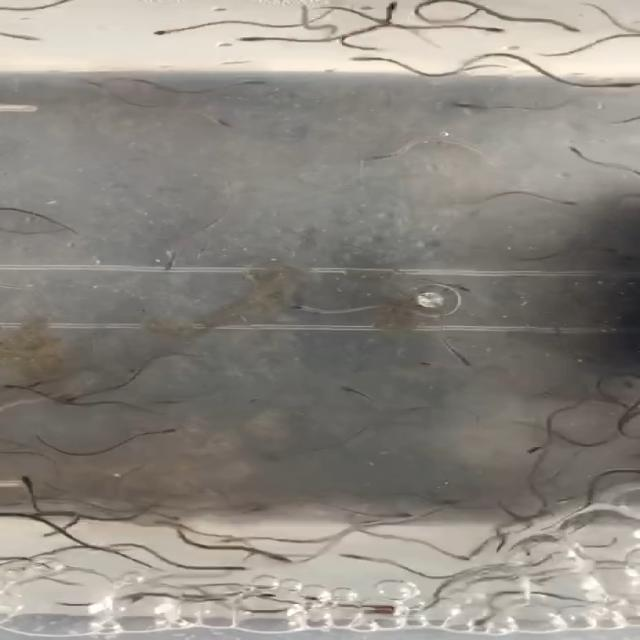active_glass_eel: (223, 72, 294, 97), (512, 431, 560, 462), (338, 143, 395, 169), (192, 108, 248, 133), (456, 14, 512, 38), (276, 296, 327, 322), (134, 421, 200, 440), (145, 251, 191, 278), (248, 548, 303, 570), (392, 354, 445, 376), (129, 23, 187, 43), (329, 546, 377, 570), (539, 14, 591, 36), (448, 96, 494, 120), (315, 379, 361, 403), (591, 76, 640, 98), (379, 508, 428, 530), (225, 30, 274, 51), (355, 0, 415, 17), (23, 524, 68, 546), (434, 346, 481, 366), (547, 193, 589, 215), (136, 396, 190, 412), (5, 471, 50, 490), (155, 502, 186, 528), (558, 140, 594, 162), (0, 380, 38, 400), (434, 552, 480, 568), (423, 494, 459, 514), (480, 540, 515, 560), (219, 560, 253, 580), (342, 53, 382, 68), (52, 392, 85, 409), (18, 376, 59, 388)
